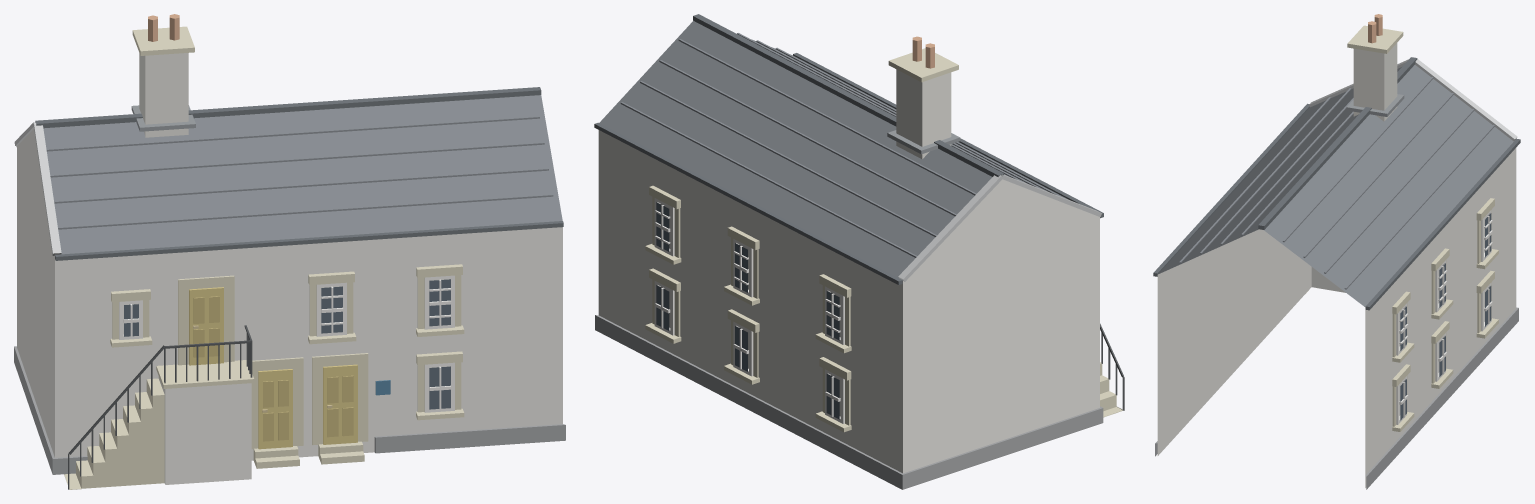
3 renders of one model, left to right at view 1: azimuth 30°, elevation 25°; view 2: azimuth 150°, elevation 25°; view 3: azimuth 270°, elevation 25°, orthographic. The views are drawn at different scales.
Parts seen in each view (by area): view 1: harl, slate, dress_buff, slate_dk, slate_lt, plinth, door_yellow, door_yellow_p, chim_render, frame, pipe, stone_band (+4 smaller); view 2: harl, slate, plinth, dress_buff, slate_dk, slate_lt, frame, chim_render, stone_band; view 3: harl, slate, dress_buff, slate_lt, slate_dk, chim_render, plinth, frame, stone_band, lead.
Part boxes in pixels (x1,y1,x2,y2): harl: [17, 129, 562, 484]; slate: [43, 95, 562, 254]; dress_buff: [64, 26, 464, 489]; slate_dk: [16, 87, 563, 260]; slate_lt: [46, 116, 553, 229]; plinth: [14, 346, 565, 474]; door_yellow: [189, 287, 357, 449]; door_yellow_p: [193, 296, 353, 441]; chim_render: [139, 53, 188, 137]; frame: [119, 275, 454, 412]; pipe: [68, 325, 252, 489]; stone_band: [14, 122, 61, 255]; harl: [598, 130, 1099, 473]; slate: [599, 21, 1068, 280]; plinth: [595, 315, 1103, 489]; dress_buff: [645, 48, 1122, 432]; slate_dk: [594, 14, 1103, 284]; slate_lt: [620, 33, 1065, 257]; frame: [654, 198, 844, 423]; chim_render: [896, 69, 951, 159]; stone_band: [898, 174, 1101, 281]; harl: [1157, 148, 1516, 487]; slate: [1158, 65, 1515, 306]; dress_buff: [1306, 25, 1498, 431]; slate_lt: [1179, 77, 1494, 289]; slate_dk: [1153, 57, 1520, 310]; chim_render: [1353, 43, 1397, 121]; plinth: [1155, 307, 1518, 489]; frame: [1396, 210, 1492, 424]; stone_band: [1309, 57, 1517, 141]; lead: [1346, 94, 1404, 116].
Size of the model in its own units: 13.33 by 9.92 by 10.08.
